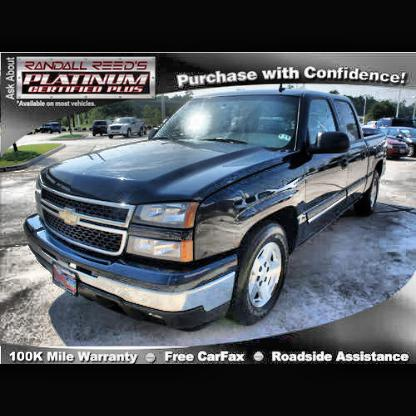Chevrolet Silverado 1500 Classic Extended Cab 2007: (24, 88, 395, 336)
